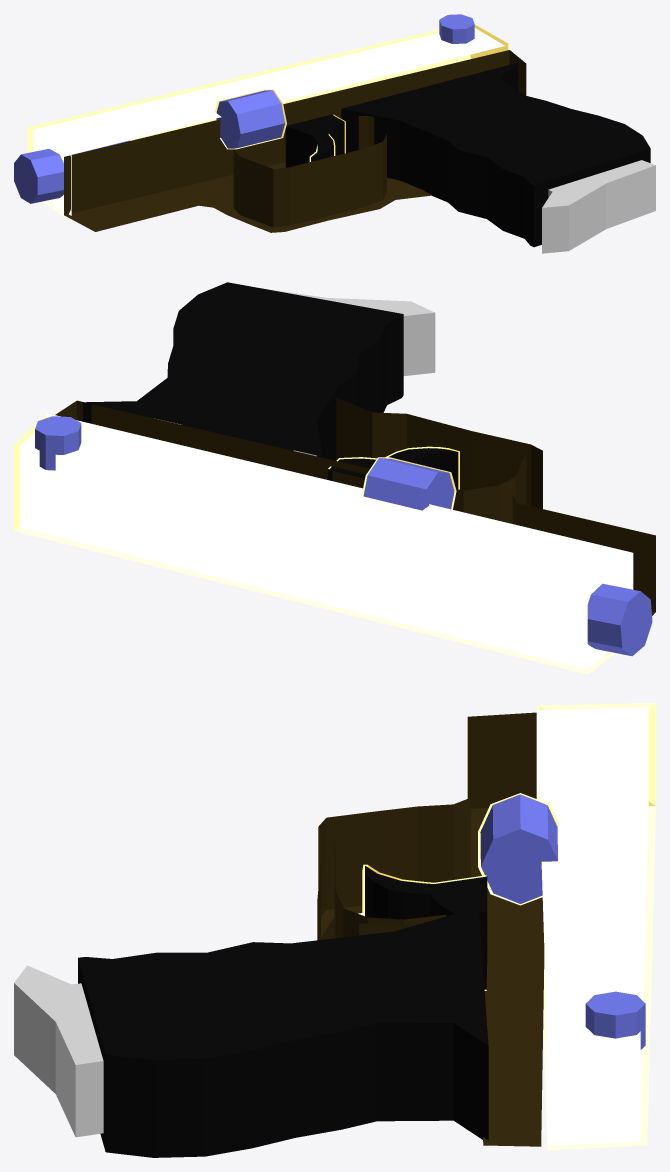
File: auto_pistol.glb
3 renders of one model, top to bottom at view 1: azimuth 30°, elevation 25°; view 2: azimuth 150°, elevation 25°; view 3: azimuth 270°, elevation 25°, orthographic. The views are drawn at different scales.
Visible parts, largest first — view 1: hand.002, hand, hand.001, magzine, hand.005, hand.003, hand.006, hand.004; view 2: hand.001, hand, hand.002, hand.006, hand.005, magzine, hand.003, hand.004; view 3: hand, hand.001, hand.002, magzine, hand.005, hand.003, hand.004.
Boxes of the visible parts, x1=… form: hand.002: x1=64, y1=50, x2=526, y2=232; hand: x1=341, y1=62, x2=650, y2=247; hand.001: x1=27, y1=24, x2=508, y2=218; magzine: x1=542, y1=160, x2=655, y2=253; hand.005: x1=214, y1=89, x2=286, y2=149; hand.003: x1=285, y1=114, x2=345, y2=167; hand.006: x1=14, y1=140, x2=129, y2=203; hand.004: x1=439, y1=14, x2=474, y2=43; hand.001: x1=14, y1=413, x2=633, y2=674; hand: x1=83, y1=282, x2=403, y2=460; hand.002: x1=55, y1=397, x2=655, y2=615; hand.006: x1=587, y1=583, x2=652, y2=656; hand.005: x1=361, y1=457, x2=456, y2=510; magzine: x1=154, y1=288, x2=435, y2=456; hand.003: x1=328, y1=446, x2=459, y2=489; hand.004: x1=35, y1=416, x2=81, y2=470; hand: x1=78, y1=907, x2=488, y2=1157; hand.001: x1=536, y1=703, x2=655, y2=1150; hand.002: x1=317, y1=712, x2=544, y2=1146; magzine: x1=14, y1=965, x2=103, y2=1137; hand.005: x1=478, y1=793, x2=559, y2=905; hand.003: x1=362, y1=864, x2=487, y2=990; hand.004: x1=585, y1=991, x2=645, y2=1049.
Size of the model in its own units: 4.8 by 0.8154 by 3.54.
